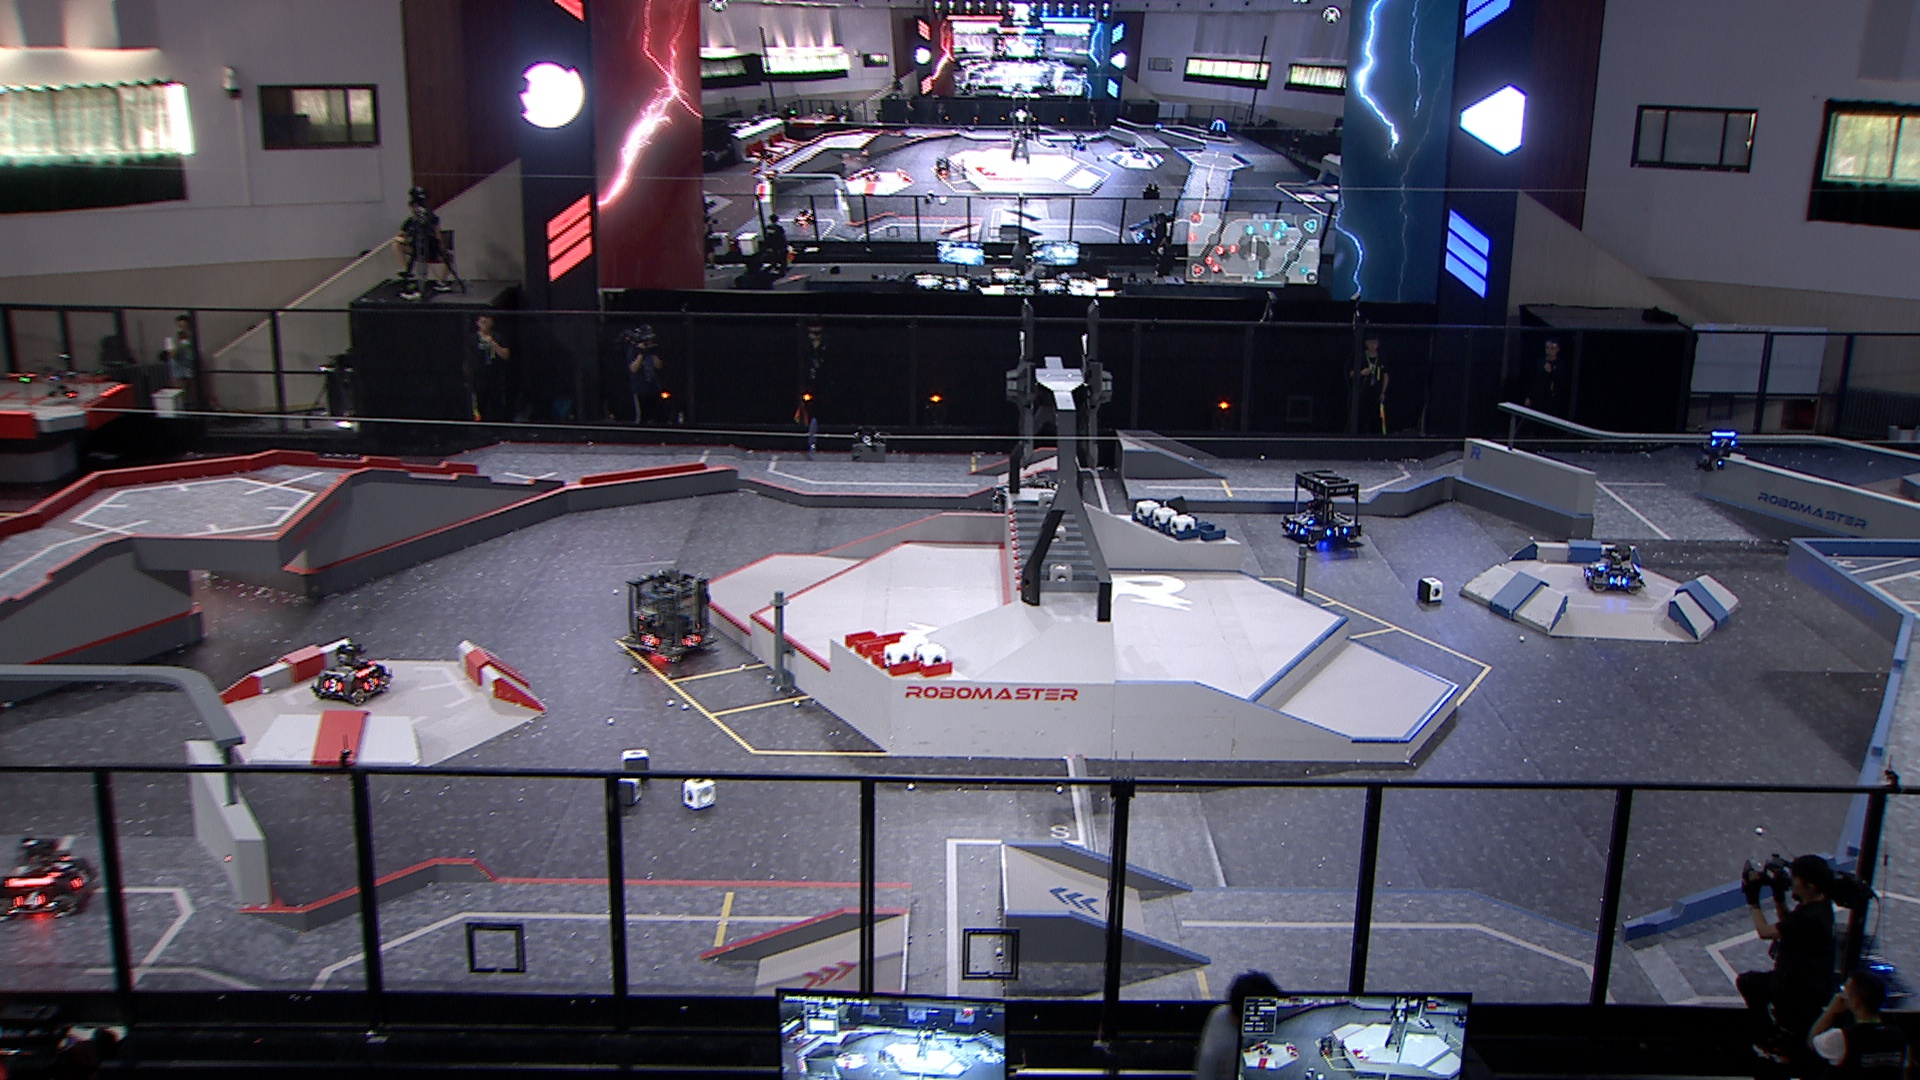armor: (47, 851, 74, 876), (13, 891, 44, 907), (71, 865, 90, 889), (320, 676, 343, 694), (1286, 518, 1305, 534), (1607, 575, 1629, 589), (637, 633, 659, 646), (1708, 436, 1735, 447), (683, 632, 699, 647), (1328, 524, 1346, 537), (363, 675, 380, 688), (1593, 560, 1607, 572), (1296, 512, 1311, 524), (1584, 566, 1592, 578)
car: (1795, 920, 1912, 1021), (618, 564, 716, 669), (1280, 467, 1362, 549), (984, 473, 1079, 541), (309, 642, 390, 707), (1581, 541, 1643, 597)
ignore: (754, 166, 783, 187), (934, 154, 957, 178), (794, 204, 818, 228), (1205, 116, 1230, 138), (1313, 1034, 1337, 1055), (1065, 131, 1095, 148), (1129, 145, 1150, 161), (1453, 1007, 1466, 1031), (1257, 1040, 1273, 1058), (1150, 119, 1167, 131)
watcher: (1695, 418, 1746, 471)
